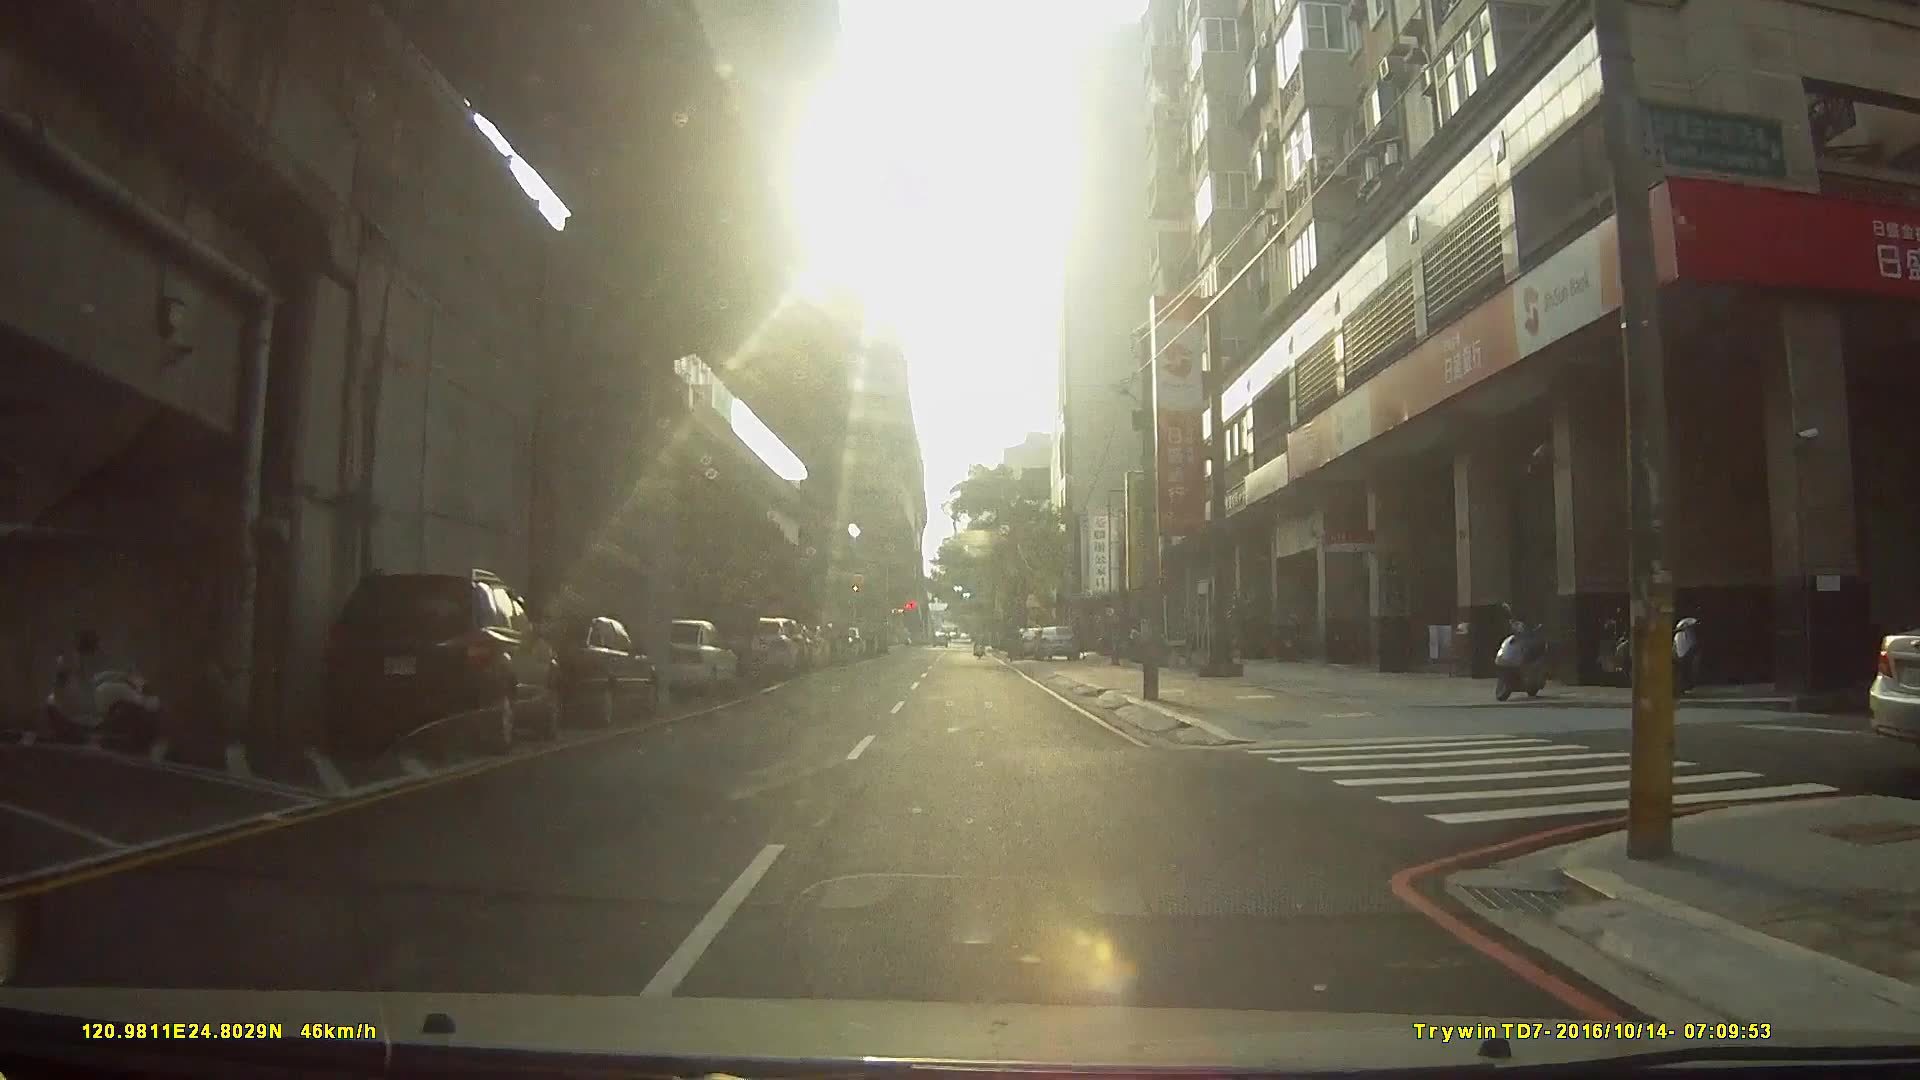vehicle: (323, 568, 562, 753), (483, 611, 657, 731), (637, 615, 738, 704), (659, 620, 794, 670), (1030, 620, 1080, 658)
